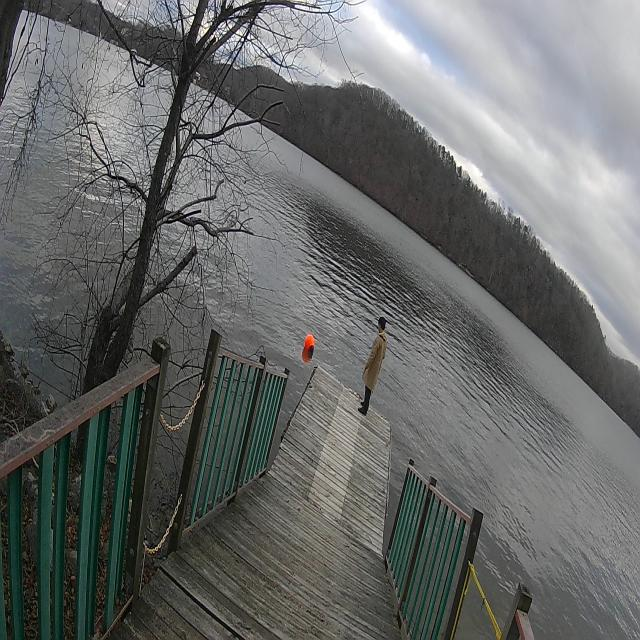Buoy: (304, 328, 316, 360)
